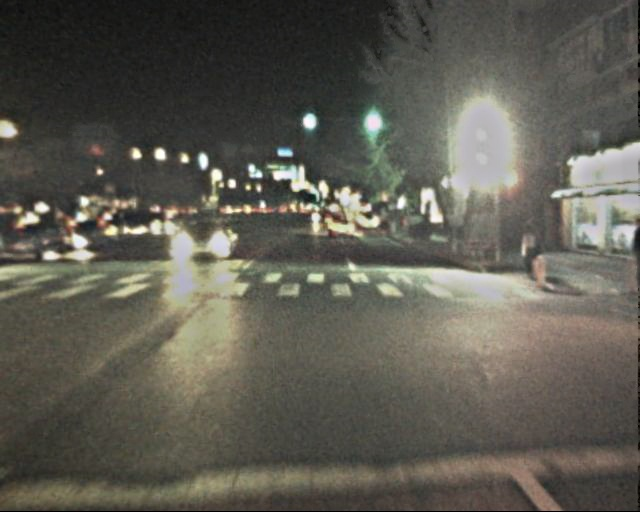person: (517, 220, 544, 281)
